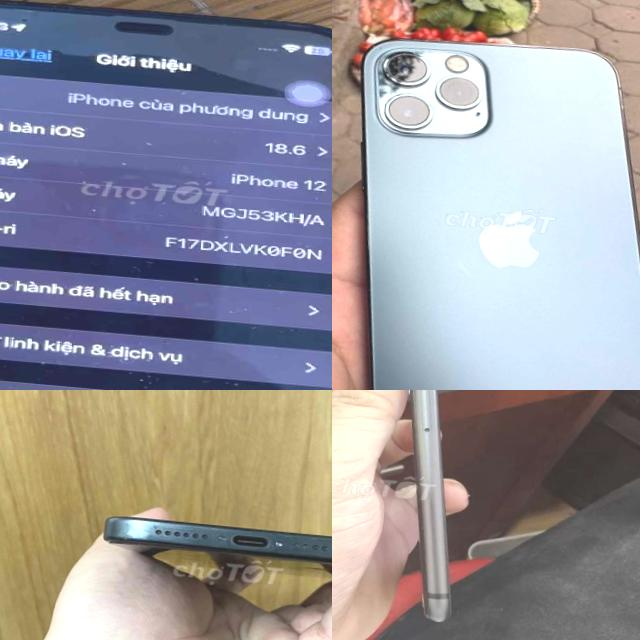gen_12_13: (0, 0, 332, 390), (332, 30, 640, 390)
gen_15: (88, 503, 332, 599)
scratch: (352, 390, 492, 634), (116, 518, 230, 551), (257, 533, 332, 570)
